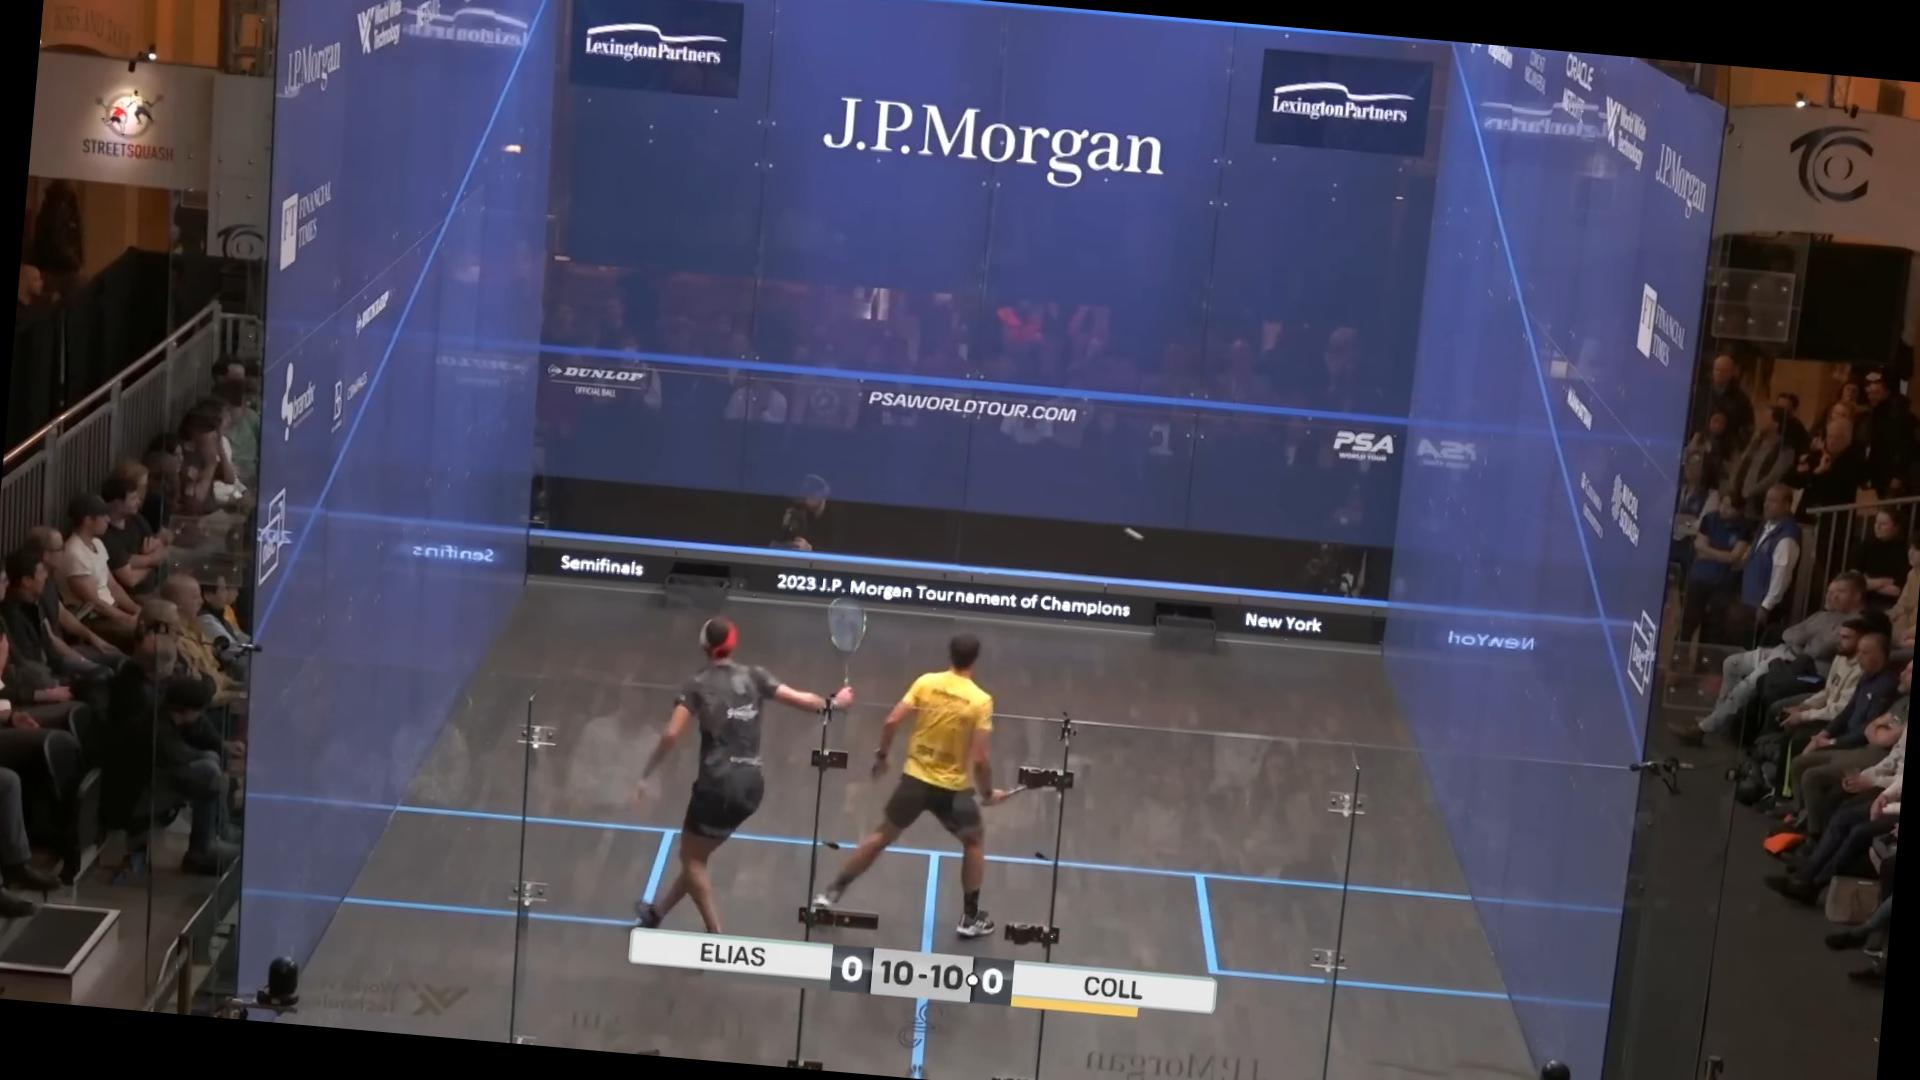Racket: (814, 596, 880, 702), (981, 758, 1076, 818)
